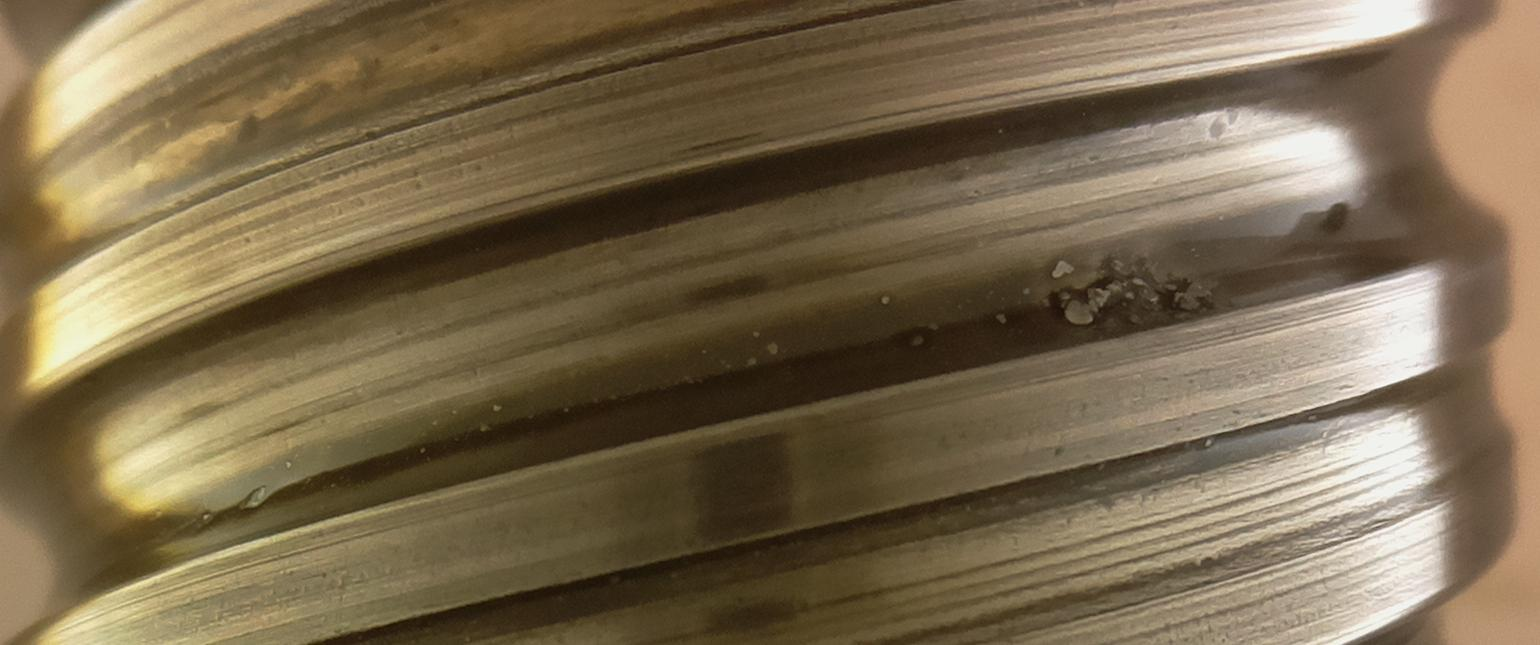pitting: (1038, 254, 1214, 327)
